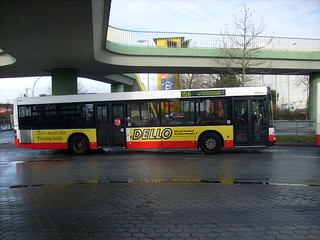bus: (12, 84, 277, 154)
